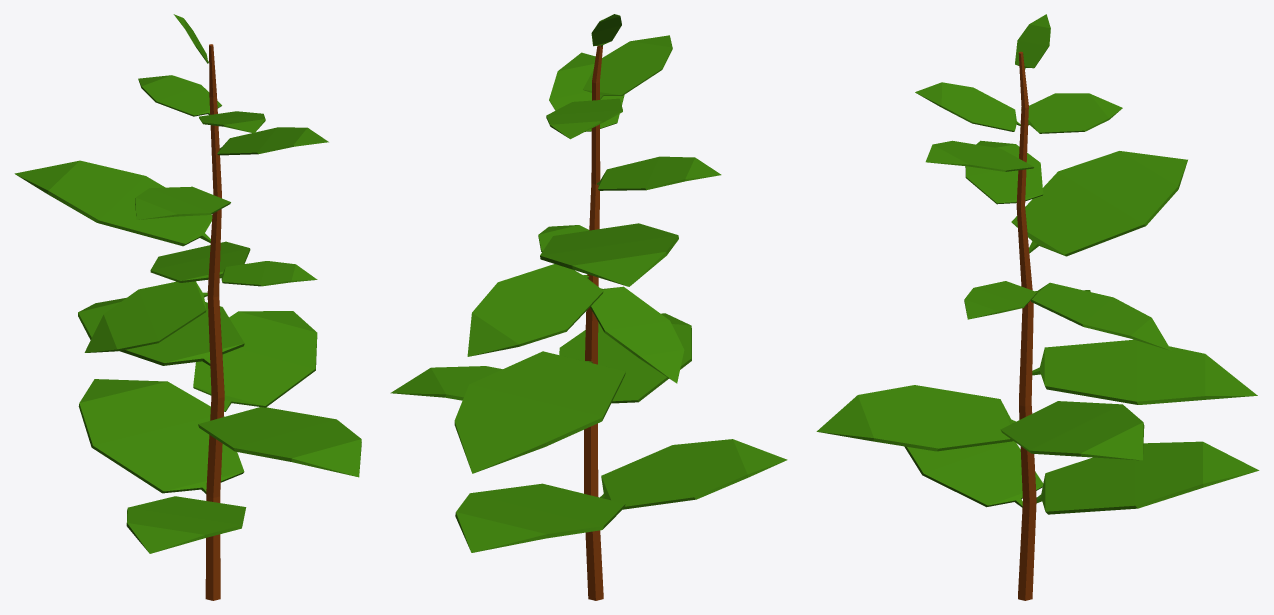
Rendered from Plant_g_02.fbx.
3 renders of one model, left to right at view 1: azimuth 30°, elevation 25°; view 2: azimuth 150°, elevation 25°; view 3: azimuth 270°, elevation 25°, orthographic. The views are drawn at different scales.
Visible parts, largest first — view 1: Plant_g_02_LOD0; view 2: Plant_g_02_LOD0; view 3: Plant_g_02_LOD0.
Part boxes in pixels (x1,y1,x2,y2): Plant_g_02_LOD0: [14, 14, 361, 600]; Plant_g_02_LOD0: [390, 14, 787, 600]; Plant_g_02_LOD0: [816, 14, 1259, 600].
Size of what is drawn, in the model's own units: 14.3 by 30.03 by 21.18.
